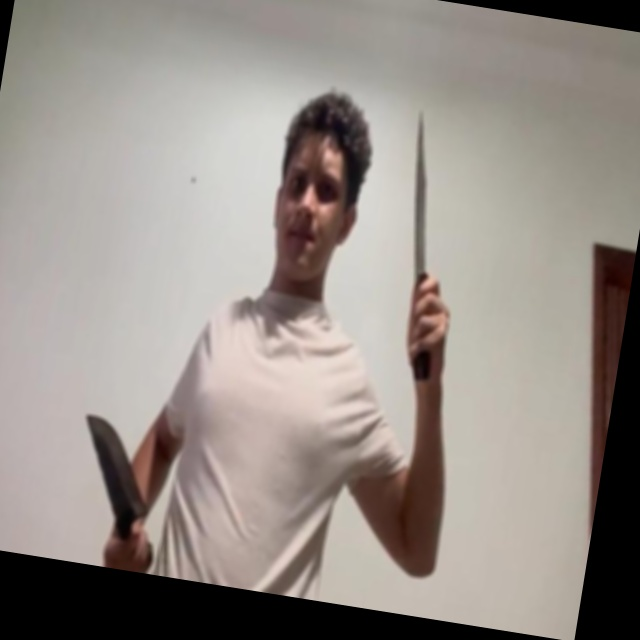Sharp-Object: (71, 413, 162, 527), (393, 112, 448, 279)
